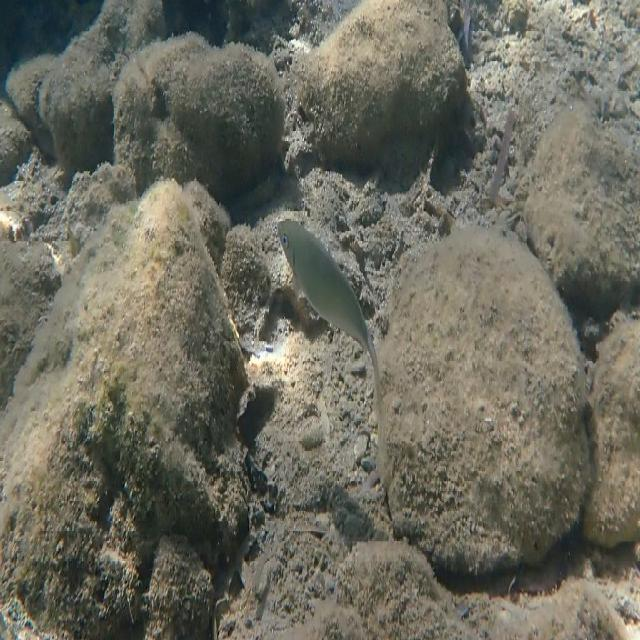Sokar Baligi: (273, 210, 397, 437)
